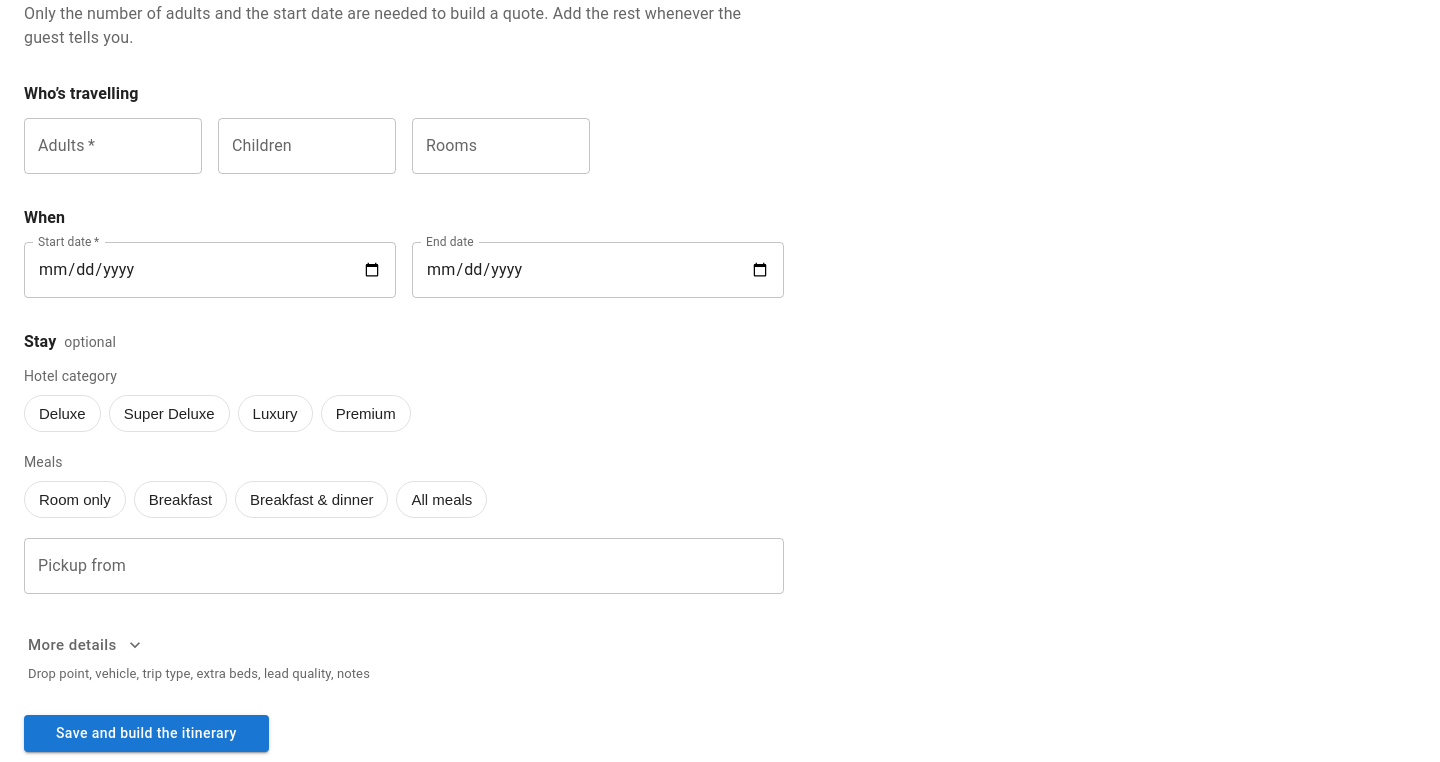
Test: Quotation for a verified lead › only adults and the start date are needed; saving goes straight on to the itinerary
(page scrolled)
Click the button "Save and build the itinerary" at coordinates (146, 734), box top-left (24, 715), bottom-right (269, 752)
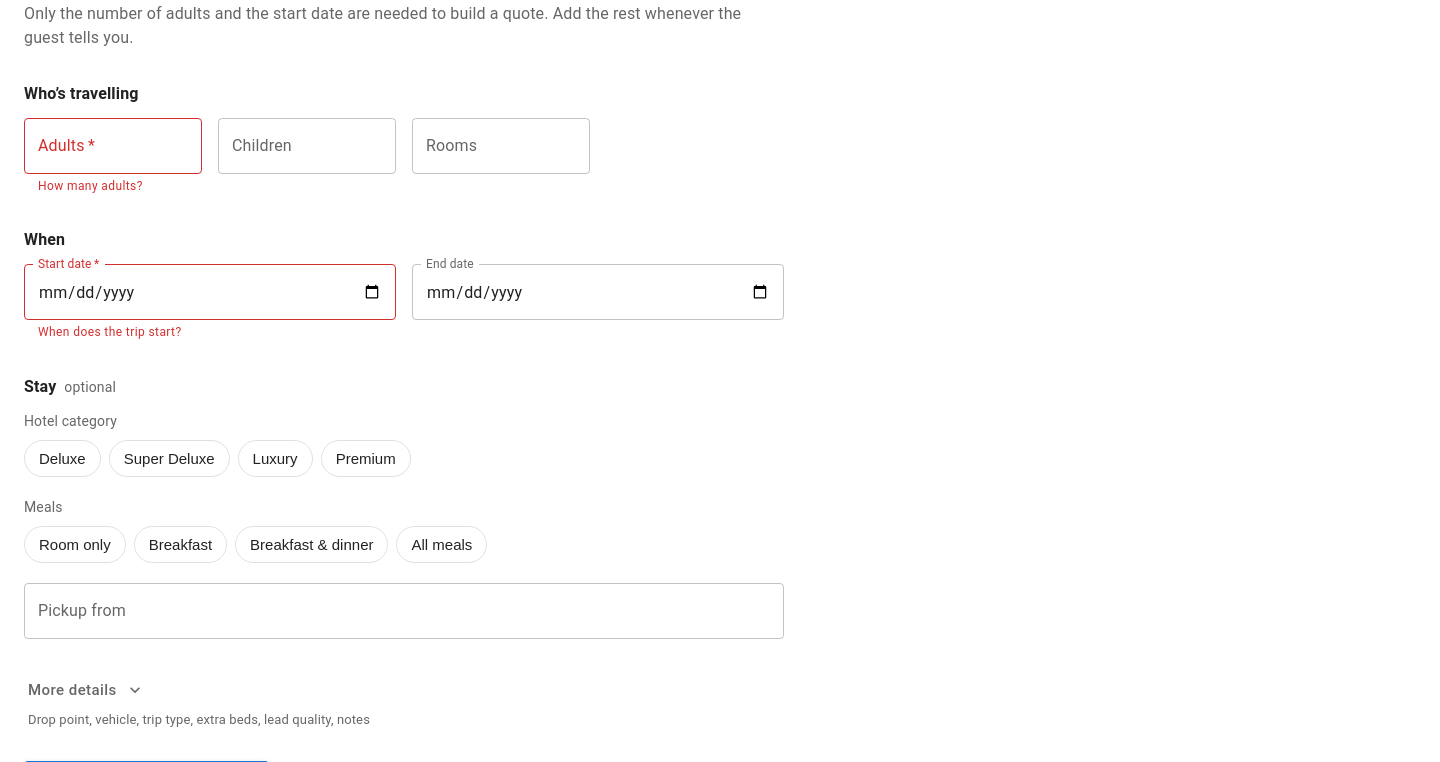
Expected: the text "How many adults?" is shown, top-left (38, 178), bottom-right (143, 192)
Expected: the text "When does the trip start?" is shown, top-left (38, 325), bottom-right (182, 339)
Type "3" into the number field labelled "Adults *" at coordinates (113, 146), box top-left (24, 118), bottom-right (202, 174)
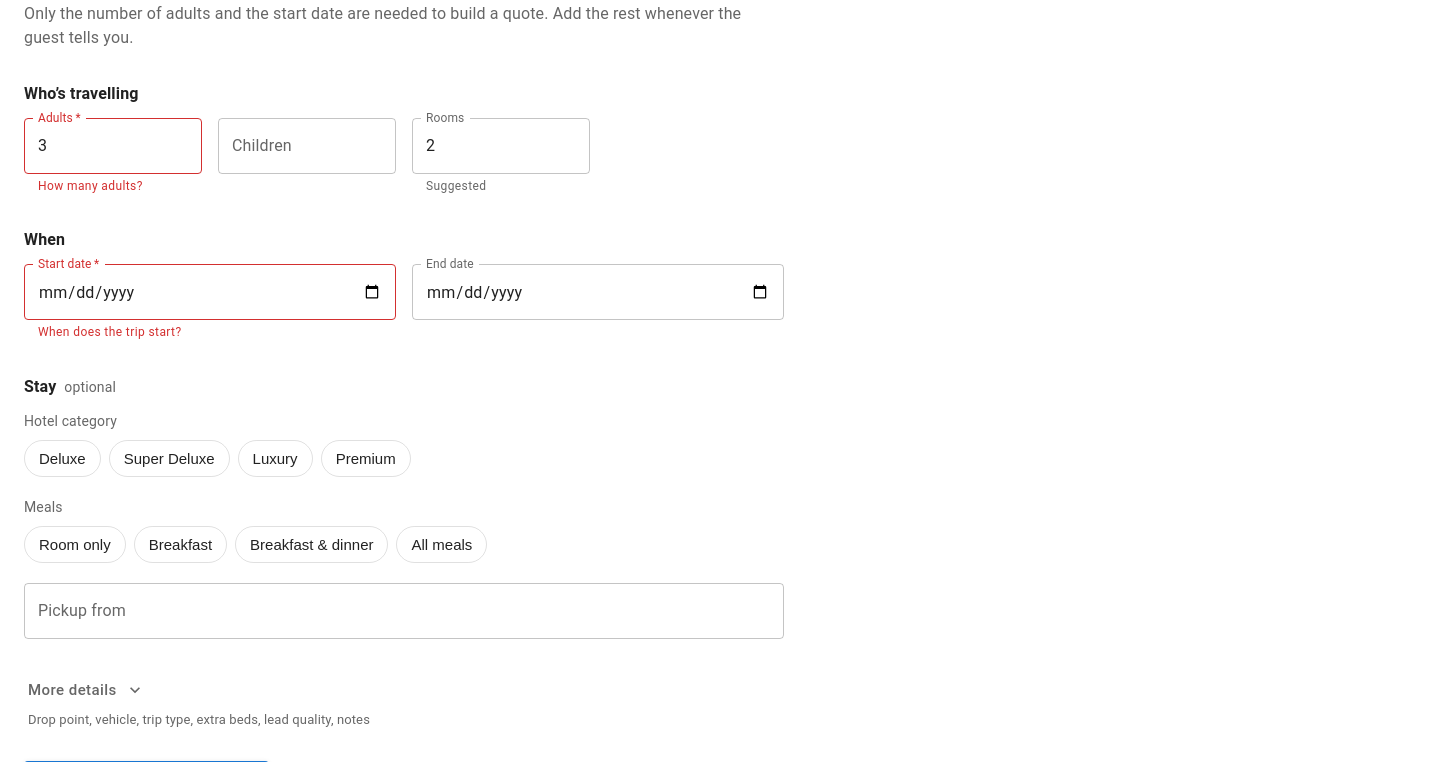
Expected: the number field labelled "Rooms" holds "2", top-left (412, 118), bottom-right (590, 174)
Type "2026-10-05" into the date field labelled "Start date *" at coordinates (210, 292), box top-left (24, 264), bottom-right (396, 320)
(page scrolled)
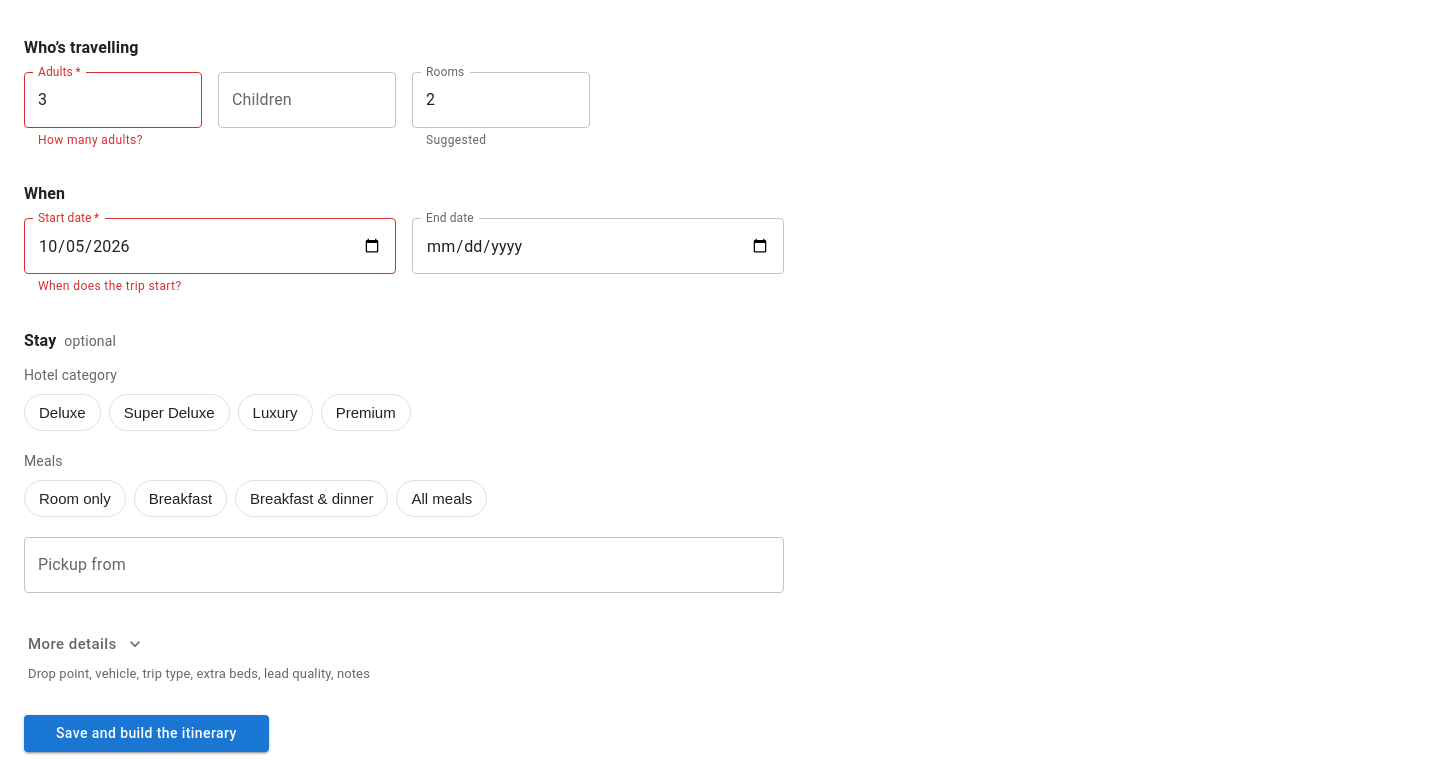
Click the button "Save and build the itinerary" at coordinates (146, 733), box top-left (24, 715), bottom-right (269, 752)
(page scrolled)
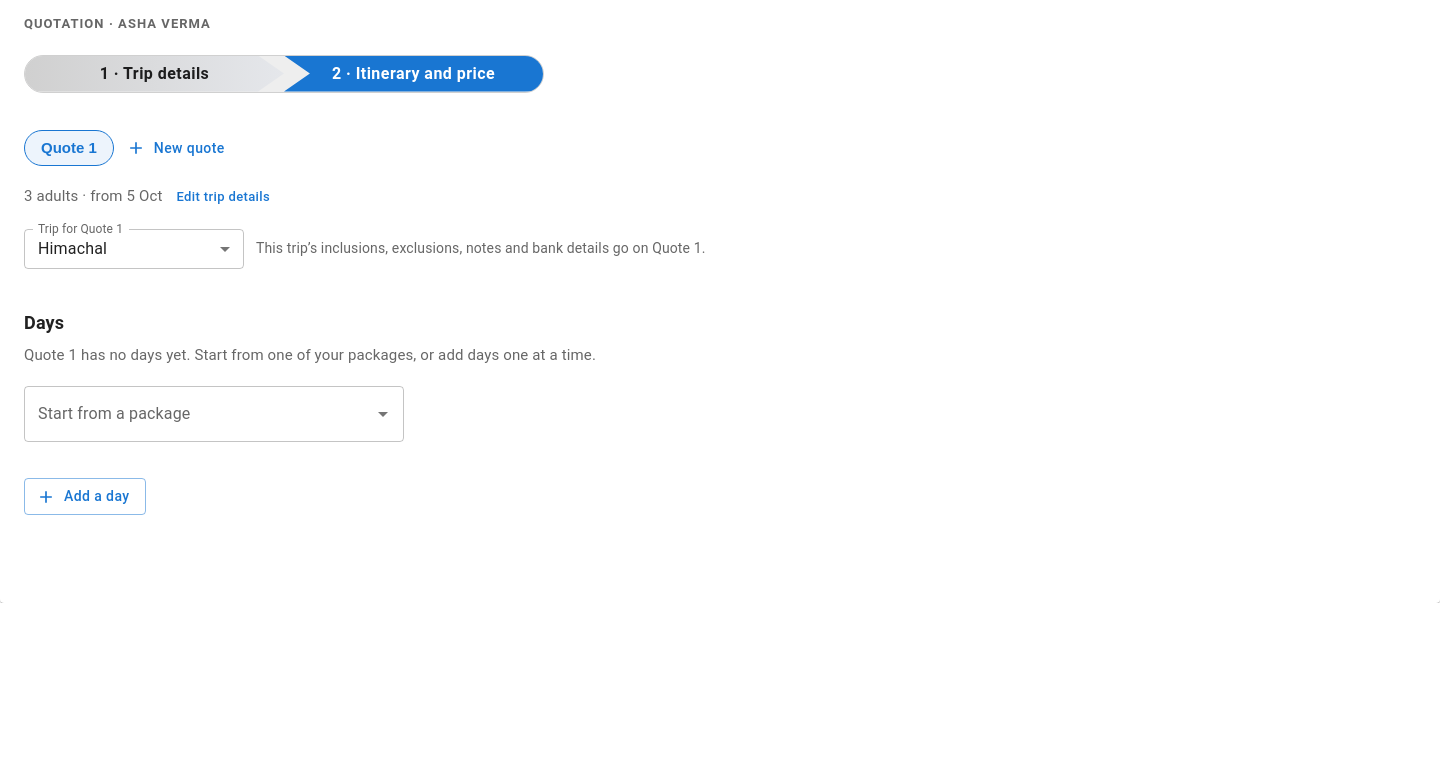
Expected: the text "Quote 1 has no days yet" is shown, top-left (24, 346), bottom-right (596, 364)
Expected: the text "3 adults · from 5 Oct" is shown, top-left (24, 185), bottom-right (162, 208)
